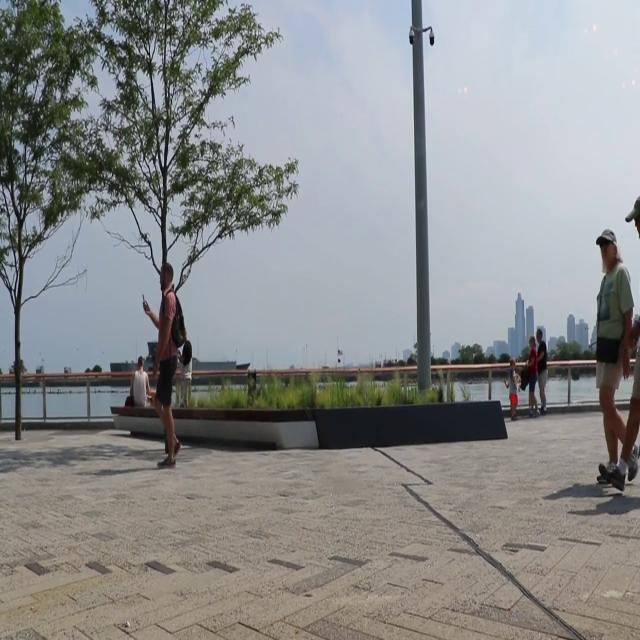normal: (584, 221, 640, 481), (137, 257, 195, 474)
